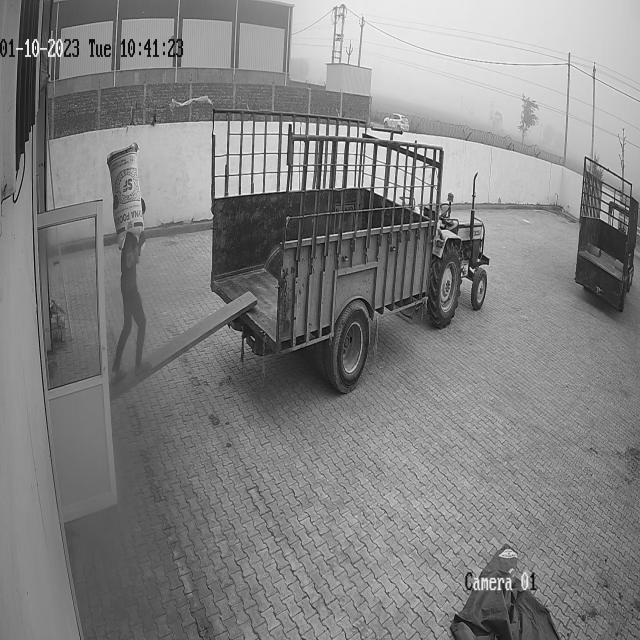sack: (106, 142, 143, 250)
